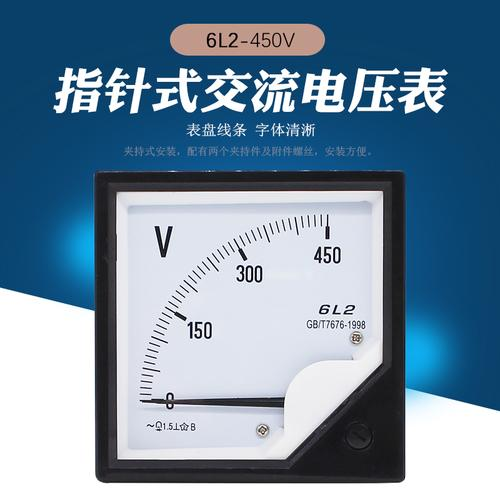pointer: (117, 190, 383, 463)
